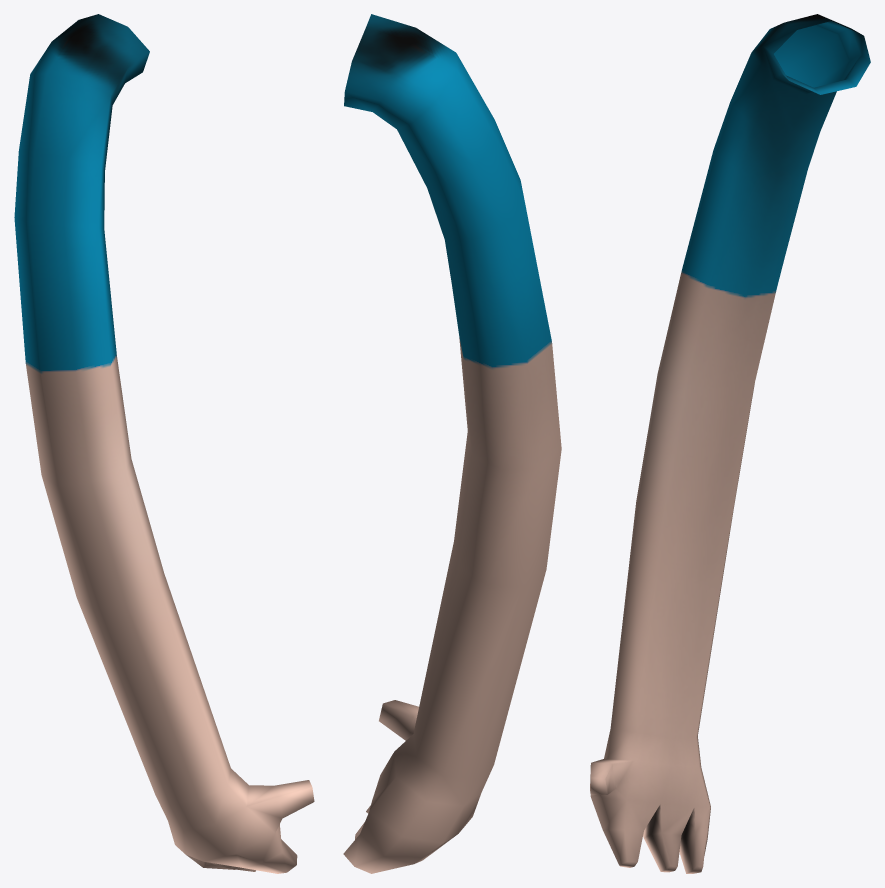
File: BrazoDerecho.obj
The picture shows the model from 3 angles, left to right: view 1: azimuth 30°, elevation 25°; view 2: azimuth 150°, elevation 25°; view 3: azimuth 270°, elevation 25°; orthographic projection. The views are drawn at different scales.
Parts seen in each view (by area): view 1: Finn.001; view 2: Finn.001; view 3: Finn.001.
Part boxes in pixels (<box>): Finn.001: <box>14,14,314,873</box>; Finn.001: <box>343,14,561,873</box>; Finn.001: <box>590,14,870,873</box>.
Size of the model in its own units: 7.71 by 28.49 by 8.83.
Materials: 1 (1 with a texture image).
